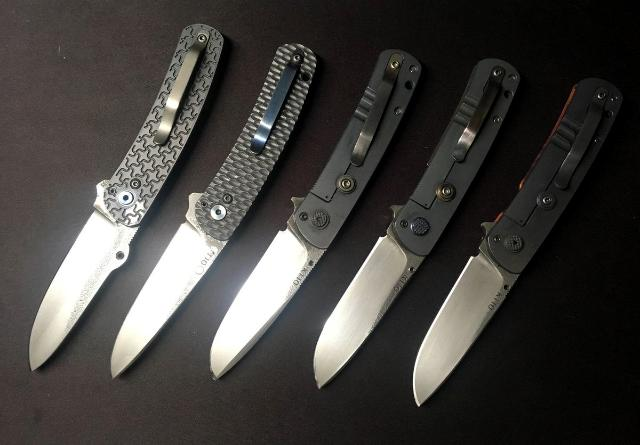pocket-knife: (208, 45, 432, 381), (409, 70, 629, 410), (27, 19, 230, 379), (104, 38, 316, 382), (312, 51, 524, 393)
